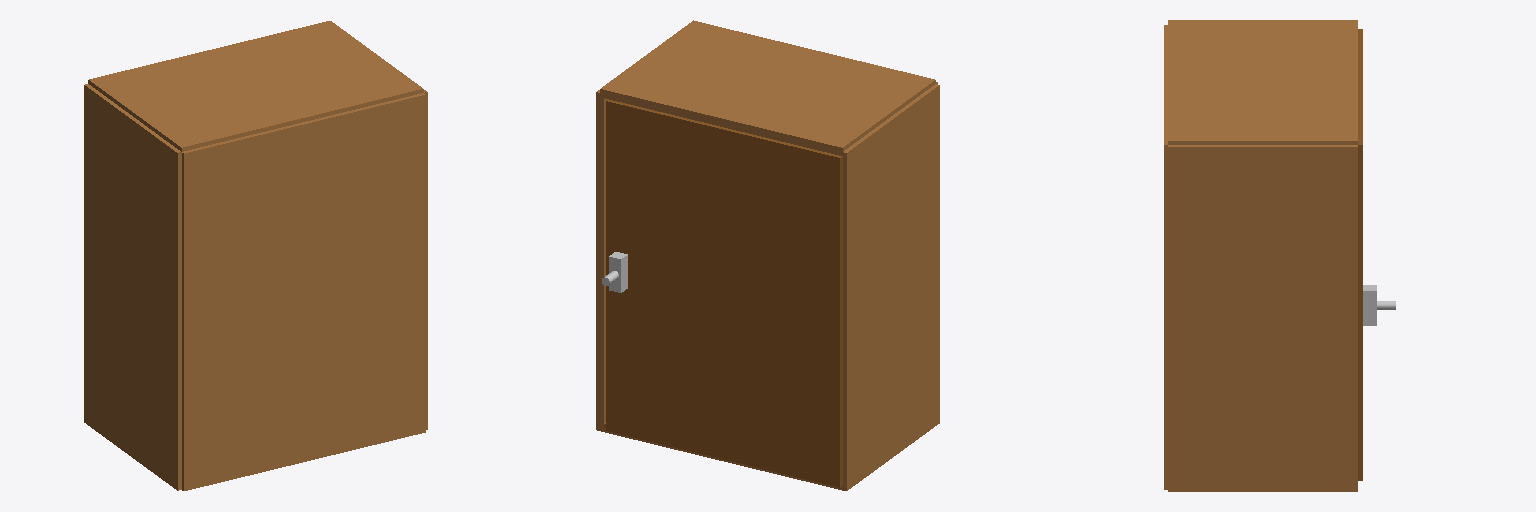
URDF robot description (single_door_cabinet):
<?xml version="1.0" ?>
<robot name="single_door_cabinet">
  <!-- Cabinet base/frame (hollow inside) -->
  <link name="cabinet_base">
    <inertial>
      <mass value="10"/>
      <origin rpy="0 0 0" xyz="0 0 0.4"/>
      <inertia ixx="1.5" ixy="0" ixz="0" iyy="1.5" iyz="0" izz="0.7"/>
    </inertial>
    
    <!-- Bottom panel -->
    <visual name="bottom">
      <origin rpy="0 0 0" xyz="0 0 0.01"/>
      <geometry>
        <box size="0.6 0.4 0.02"/>
      </geometry>
      <material name="cabinet_color">
        <color rgba="0.7 0.5 0.3 1"/>
      </material>
    </visual>
    <collision>
      <origin rpy="0 0 0" xyz="0 0 0.01"/>
      <geometry>
        <box size="0.6 0.4 0.02"/>
      </geometry>
    </collision>
    
    <!-- Top panel -->
    <visual name="top">
      <origin rpy="0 0 0" xyz="0 0 0.8"/>
      <geometry>
        <box size="0.6 0.4 0.02"/>
      </geometry>
      <material name="cabinet_color"/>
    </visual>
    <collision>
      <origin rpy="0 0 0" xyz="0 0 0.8"/>
      <geometry>
        <box size="0.6 0.4 0.02"/>
      </geometry>
    </collision>
    
    <!-- Left panel -->
    <visual name="left">
      <origin rpy="0 0 0" xyz="-0.3 0 0.4"/>
      <geometry>
        <box size="0.02 0.4 0.8"/>
      </geometry>
      <material name="cabinet_color"/>
    </visual>
    <collision>
      <origin rpy="0 0 0" xyz="-0.3 0 0.4"/>
      <geometry>
        <box size="0.02 0.4 0.8"/>
      </geometry>
    </collision>
    
    <!-- Right panel -->
    <visual name="right">
      <origin rpy="0 0 0" xyz="0.3 0 0.4"/>
      <geometry>
        <box size="0.02 0.4 0.8"/>
      </geometry>
      <material name="cabinet_color"/>
    </visual>
    <collision>
      <origin rpy="0 0 0" xyz="0.3 0 0.4"/>
      <geometry>
        <box size="0.02 0.4 0.8"/>
      </geometry>
    </collision>
    
    <!-- Back panel -->
    <visual name="back">
      <origin rpy="0 0 0" xyz="0 -0.2 0.4"/>
      <geometry>
        <box size="0.6 0.02 0.8"/>
      </geometry>
      <material name="cabinet_color"/>
    </visual>
    <collision>
      <origin rpy="0 0 0" xyz="0 -0.2 0.4"/>
      <geometry>
        <box size="0.6 0.02 0.8"/>
      </geometry>
    </collision>
  </link>

  <!-- Single Door -->
  <link name="door">
    <inertial>
      <mass value="3"/>
      <origin rpy="0 0 0" xyz="0.29 0 0"/>
      <inertia ixx="0.18" ixy="0" ixz="0" iyy="0.18" iyz="0" izz="0.02"/>
    </inertial>
    <visual>
      <origin rpy="0 0 0" xyz="0.29 0 0"/>
      <geometry>
        <box size="0.58 0.02 0.78"/>
      </geometry>
      <material name="door_color">
        <color rgba="0.6 0.4 0.2 1"/>
      </material>
    </visual>
    <collision>
      <origin rpy="0 0 0" xyz="0.29 0 0"/>
      <geometry>
        <box size="0.58 0.02 0.78"/>
      </geometry>
    </collision>
  </link>

  <!-- Door Handle -->
  <link name="door_handle">
    <inertial>
      <mass value="0.1"/>
      <origin rpy="0 0 0" xyz="0 0.04 0"/>
      <inertia ixx="0.001" ixy="0" ixz="0" iyy="0.001" iyz="0" izz="0.001"/>
    </inertial>
    
    <!-- Handle base -->
    <visual name="handle_base">
      <origin rpy="0 0 0" xyz="0 0.02 0"/>
      <geometry>
        <box size="0.03 0.04 0.08"/>
      </geometry>
      <material name="handle_color">
        <color rgba="0.8 0.8 0.8 1"/>
      </material>
    </visual>
    <collision>
      <origin rpy="0 0 0" xyz="0 0.02 0"/>
      <geometry>
        <box size="0.03 0.04 0.08"/>
      </geometry>
    </collision>
    
    <!-- Handle grip -->
    <visual name="handle_grip">
      <origin rpy="1.57 0 0" xyz="0 0.04 0"/>
      <geometry>
        <cylinder radius="0.01" length="0.08"/>
      </geometry>
      <material name="handle_color"/>
    </visual>
    <collision>
      <origin rpy="1.57 0 0" xyz="0 0.04 0"/>
      <geometry>
        <cylinder radius="0.01" length="0.08"/>
      </geometry>
    </collision>
  </link>

  <!-- Shelf -->
  <link name="shelf">
    <inertial>
      <mass value="2"/>
      <origin rpy="0 0 0" xyz="0 0 0"/>
      <inertia ixx="0.1" ixy="0" ixz="0" iyy="0.1" iyz="0" izz="0.1"/>
    </inertial>
    <visual>
      <origin rpy="0 0 0" xyz="0 0 0"/>
      <geometry>
        <box size="0.58 0.38 0.02"/>
      </geometry>
      <material name="cabinet_color"/>
    </visual>
    <collision>
      <origin rpy="0 0 0" xyz="0 0 0"/>
      <geometry>
        <box size="0.58 0.38 0.02"/>
      </geometry>
    </collision>
  </link>

  <!-- Door hinge joint -->
  <joint name="door_joint" type="revolute">
    <parent link="cabinet_base"/>
    <child link="door"/>
    <origin rpy="0 0 0" xyz="-0.3 0.2 0.4"/>
    <axis xyz="0 0 1"/>
    <limit effort="10" lower="0" upper="2.0" velocity="1.0"/>
    <dynamics damping="0.5" friction="0.0"/>
  </joint>

  <!-- Handle attachment -->
  <joint name="handle_joint" type="fixed">
    <parent link="door"/>
    <child link="door_handle"/>
    <origin rpy="0 0 0" xyz="0.54 0 0"/>
  </joint>

  <!-- Shelf attachment -->
  <joint name="shelf_joint" type="fixed">
    <parent link="cabinet_base"/>
    <child link="shelf"/>
    <origin rpy="0 0 0" xyz="0 0 0.4"/>
  </joint>
</robot>

--- Render facts (derived) ---
The picture shows the robot from 3 angles, left to right: view 1: azimuth 30°, elevation 25°; view 2: azimuth 150°, elevation 25°; view 3: azimuth 270°, elevation 25°; orthographic projection.
Robot: single_door_cabinet — 4 links, 3 joints (1 revolute, 2 fixed); root link cabinet_base; default pose: all joints at 0.
Visible links, largest first — view 1: cabinet_base; view 2: door, cabinet_base, door_handle; view 3: cabinet_base, door, door_handle.
Boxes of the visible links, bbox=[...] form: cabinet_base: bbox=[84, 21, 427, 490]; door: bbox=[606, 99, 842, 487]; cabinet_base: bbox=[596, 20, 939, 490]; door_handle: bbox=[602, 252, 627, 292]; cabinet_base: bbox=[1164, 20, 1357, 491]; door: bbox=[1358, 29, 1362, 480]; door_handle: bbox=[1363, 285, 1395, 325].
Size in the robot's own frame: 0.62 by 0.49 by 0.81 metres.
Geometry: primitives only (box / cylinder / sphere), no mesh files.